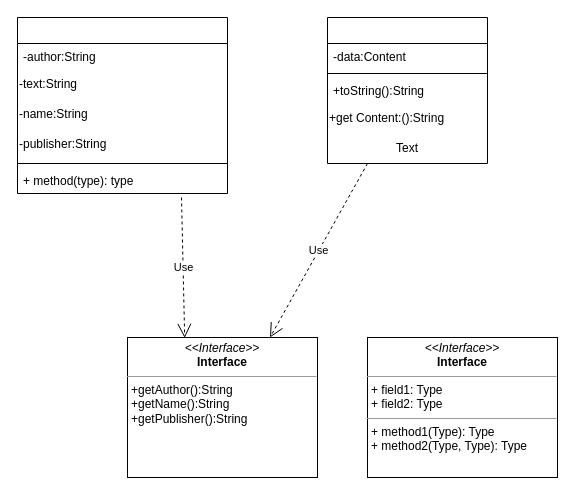
Some shapes in this 575 by 495 pixel diagram are drawn without their labels. The shapes that lost their labels are listed below. From the top down, each one's box as (x1, y1, x2, y2) in pixels, then its label:
(16, 16, 228, 194): Content
(326, 16, 488, 164): Book
